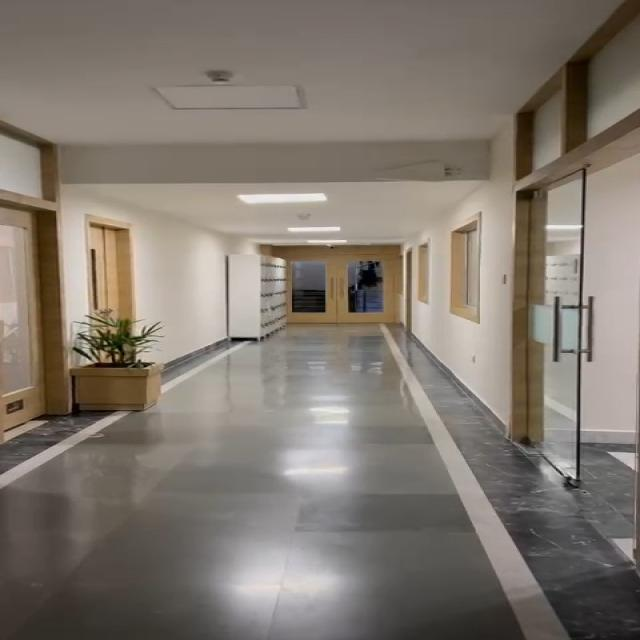door: (526, 64, 640, 486), (6, 130, 91, 414), (251, 227, 420, 321)
floor: (163, 319, 490, 639)
furniture: (78, 316, 148, 449)
